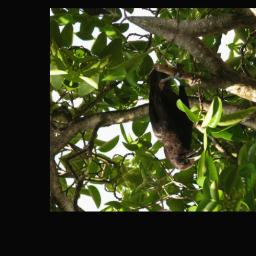Crow: (125, 61, 225, 177)
